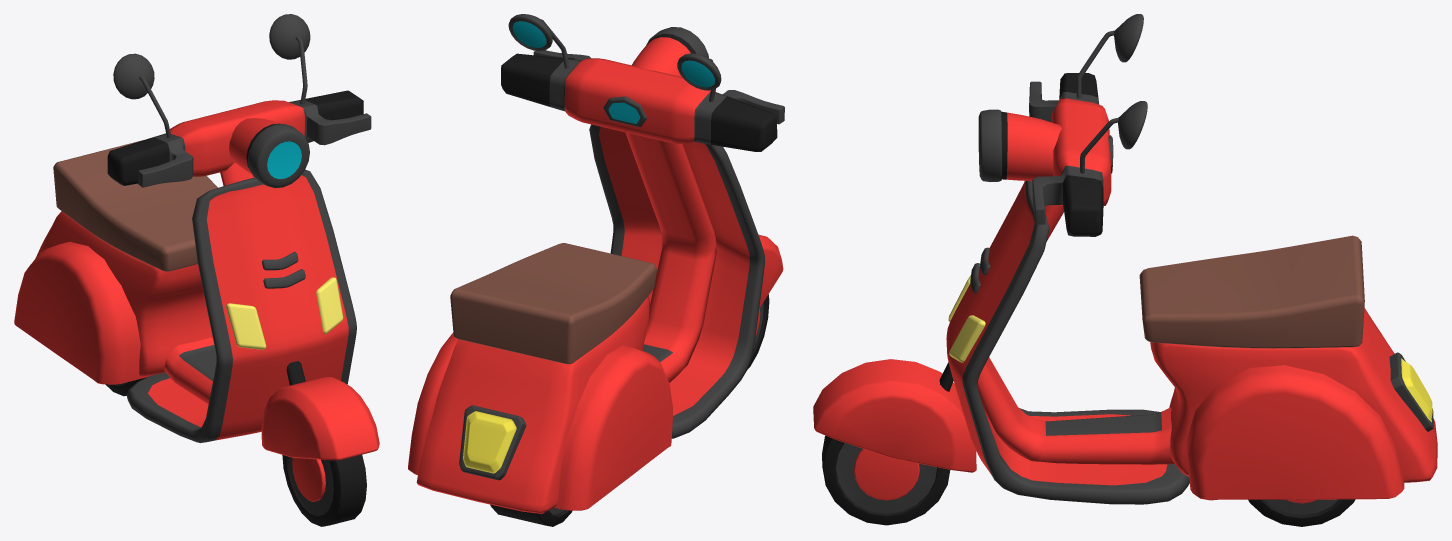
File: Town_6_Ial_6_Scooter_1.glb
The picture shows the model from 3 angles, left to right: view 1: azimuth 30°, elevation 25°; view 2: azimuth 150°, elevation 25°; view 3: azimuth 270°, elevation 25°; orthographic projection. The views are drawn at different scales.
Visible parts, largest first — view 1: Town_6_Ial_6_Scooter_1; view 2: Town_6_Ial_6_Scooter_1; view 3: Town_6_Ial_6_Scooter_1.
Boxes of the visible parts, box(x1,y1,x2,y2) form: Town_6_Ial_6_Scooter_1: box(14, 14, 379, 526); Town_6_Ial_6_Scooter_1: box(408, 14, 784, 526); Town_6_Ial_6_Scooter_1: box(813, 14, 1437, 526).
Size of the model in its own units: 1.2 by 1.87 by 2.32.
1 material, 1 textured.
